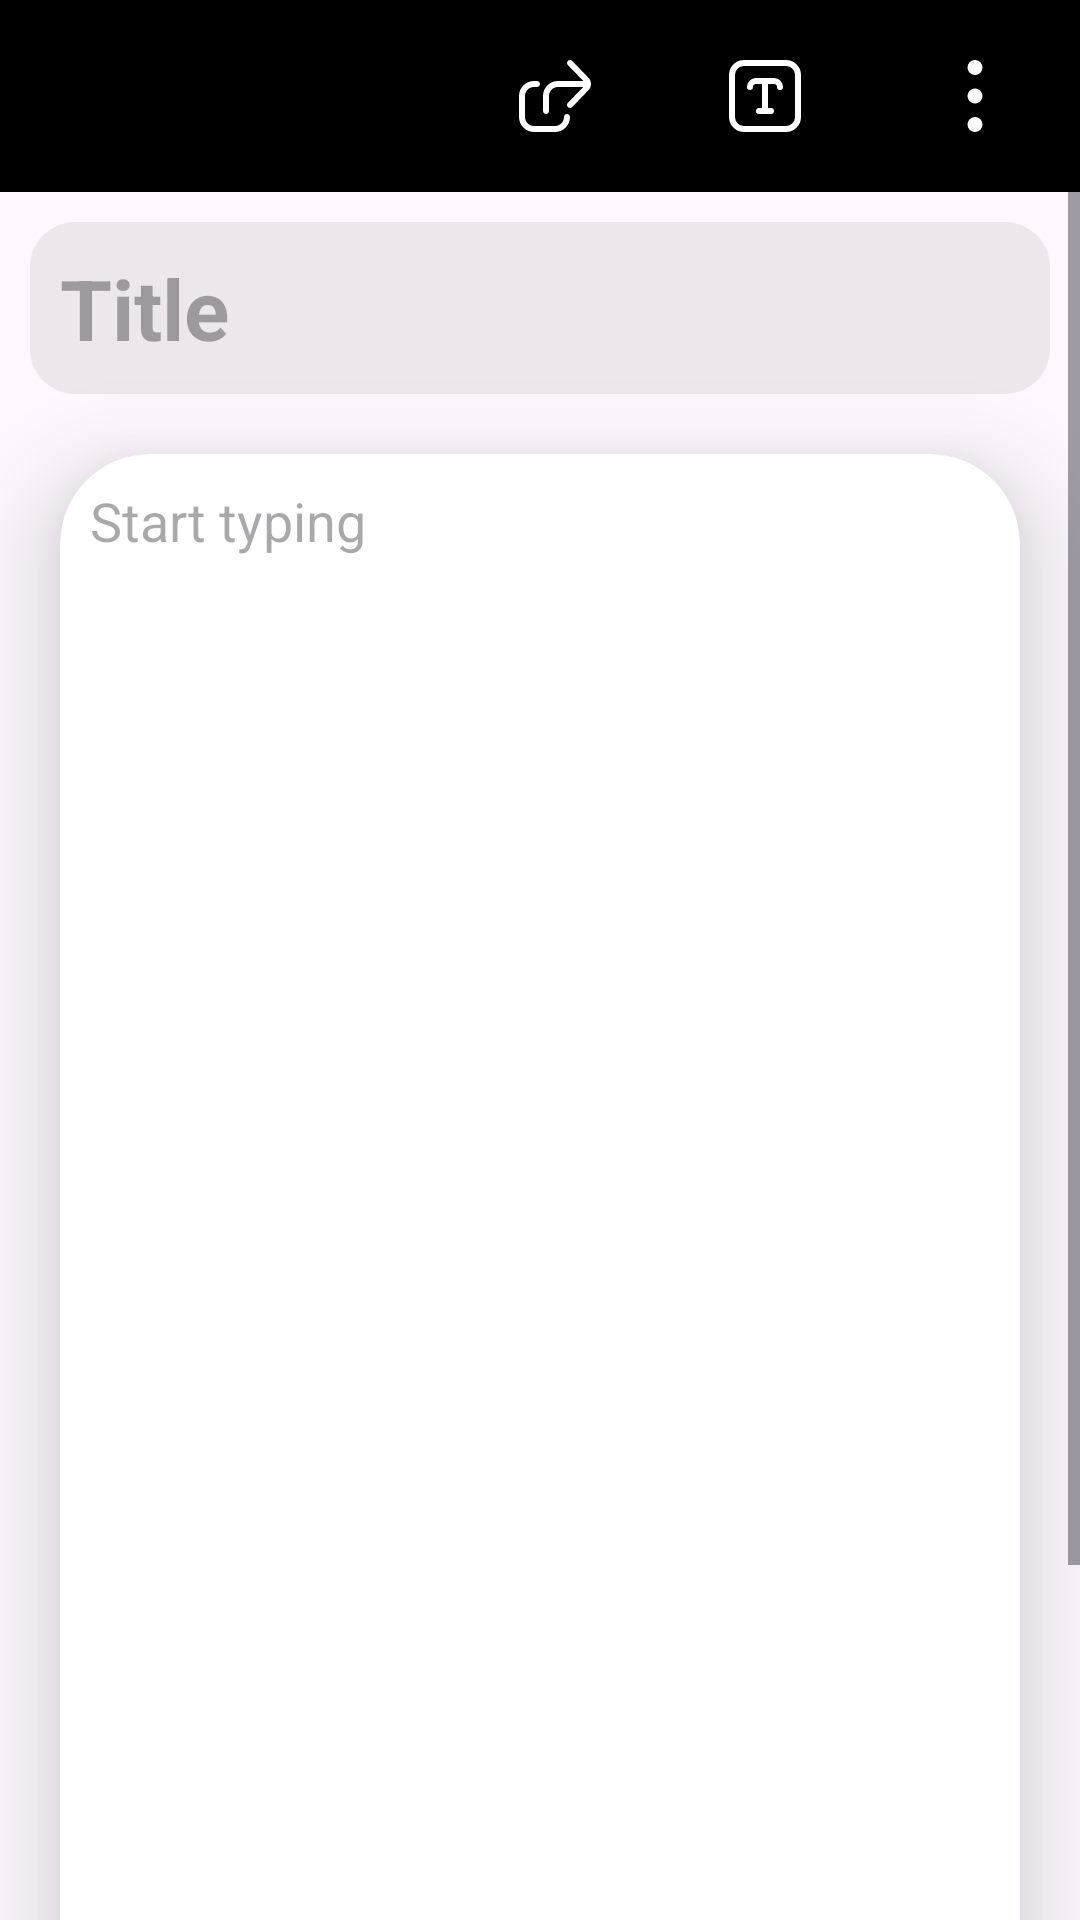

Named icons in this screenshot (1080*1920) and their bounding boxes, (x1=x1, y1=y1, x2=x2, y2=y2):
menu: (x1=967, y1=60, x2=983, y2=132)
share: (x1=519, y1=60, x2=591, y2=132)
style: (x1=729, y1=60, x2=801, y2=132)
